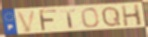F: (38, 9, 58, 33)
H: (120, 3, 143, 27)
O: (80, 7, 100, 29)
Q: (101, 6, 123, 28)
T: (61, 9, 77, 29)
V: (16, 9, 38, 33)
